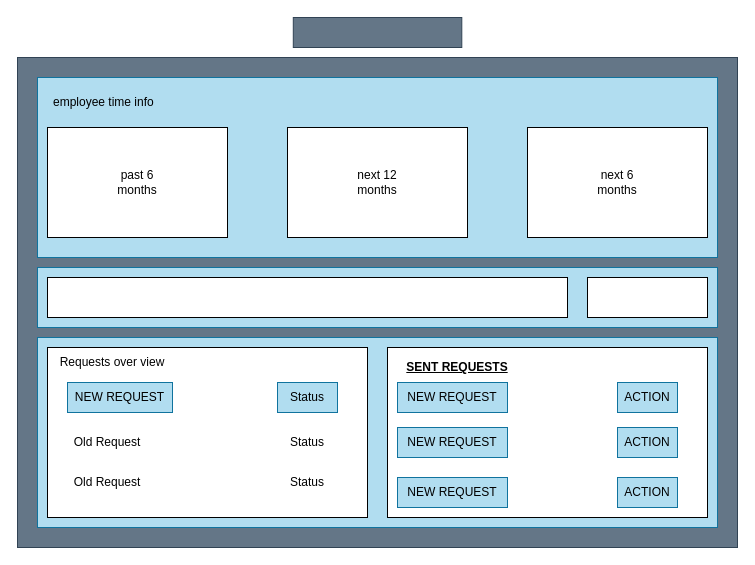
Image size: 755x565. Some labels were removed from this diagram. Each missing label, with the centre of its shape:
"NEW" goes at (647,297).
"Request Catagory" goes at (307,297).
"wire frame of VTS (manager)" goes at (377,32).
